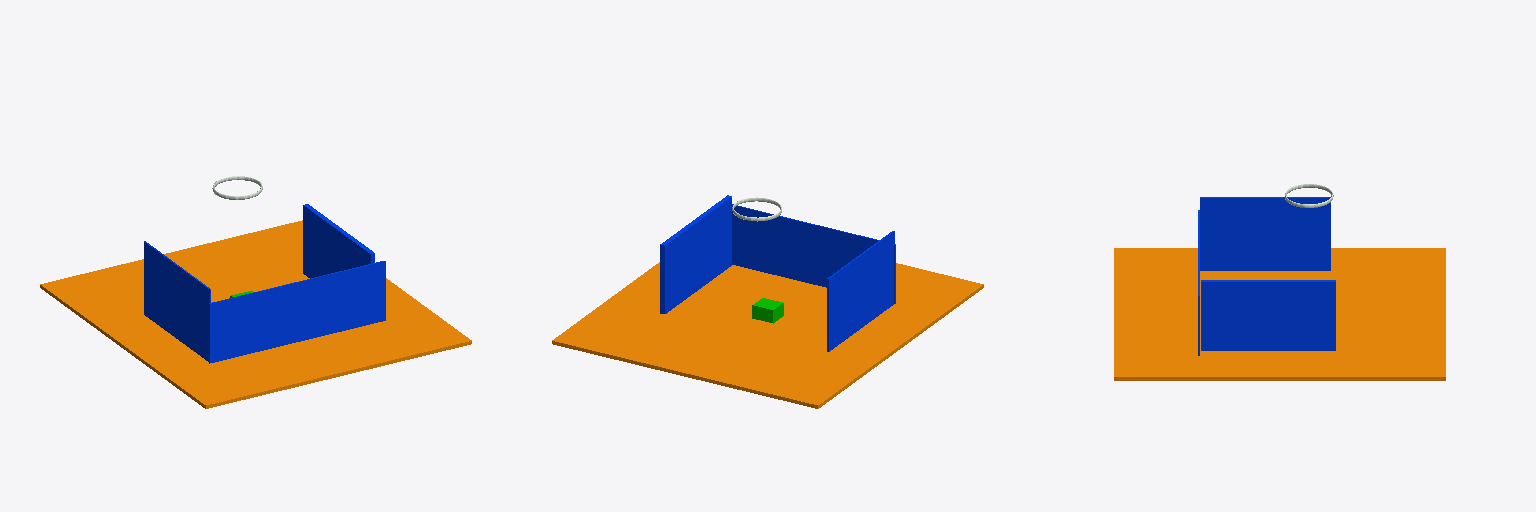
The model's file is room_obj.obj.
3 views of the same model, side by side, from view 1: azimuth 30°, elevation 25°; view 2: azimuth 150°, elevation 25°; view 3: azimuth 270°, elevation 25° (orthographic).
Parts seen in each view (by area): view 1: Box001, Box004, Box002, Box003; view 2: Box001, Box004, Box003, Box002, Box005; view 3: Box001, Box003, Box002.
Boxes of the visible parts, <box> form: Box001: <box>40,220,471,408</box>; Box004: <box>209,261,385,363</box>; Box002: <box>144,241,210,361</box>; Box003: <box>303,204,374,278</box>; Box001: <box>552,262,983,408</box>; Box004: <box>732,204,895,303</box>; Box003: <box>660,195,731,313</box>; Box002: <box>827,231,894,351</box>; Box005: <box>752,298,783,323</box>; Box001: <box>1114,248,1445,380</box>; Box003: <box>1201,280,1335,350</box>; Box002: <box>1200,197,1330,270</box>.
Bounding box in the file's own units: 59.6 × 25.72 × 64.27.